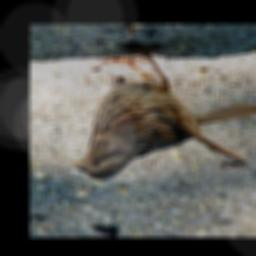Sparrow: (70, 41, 256, 183)
